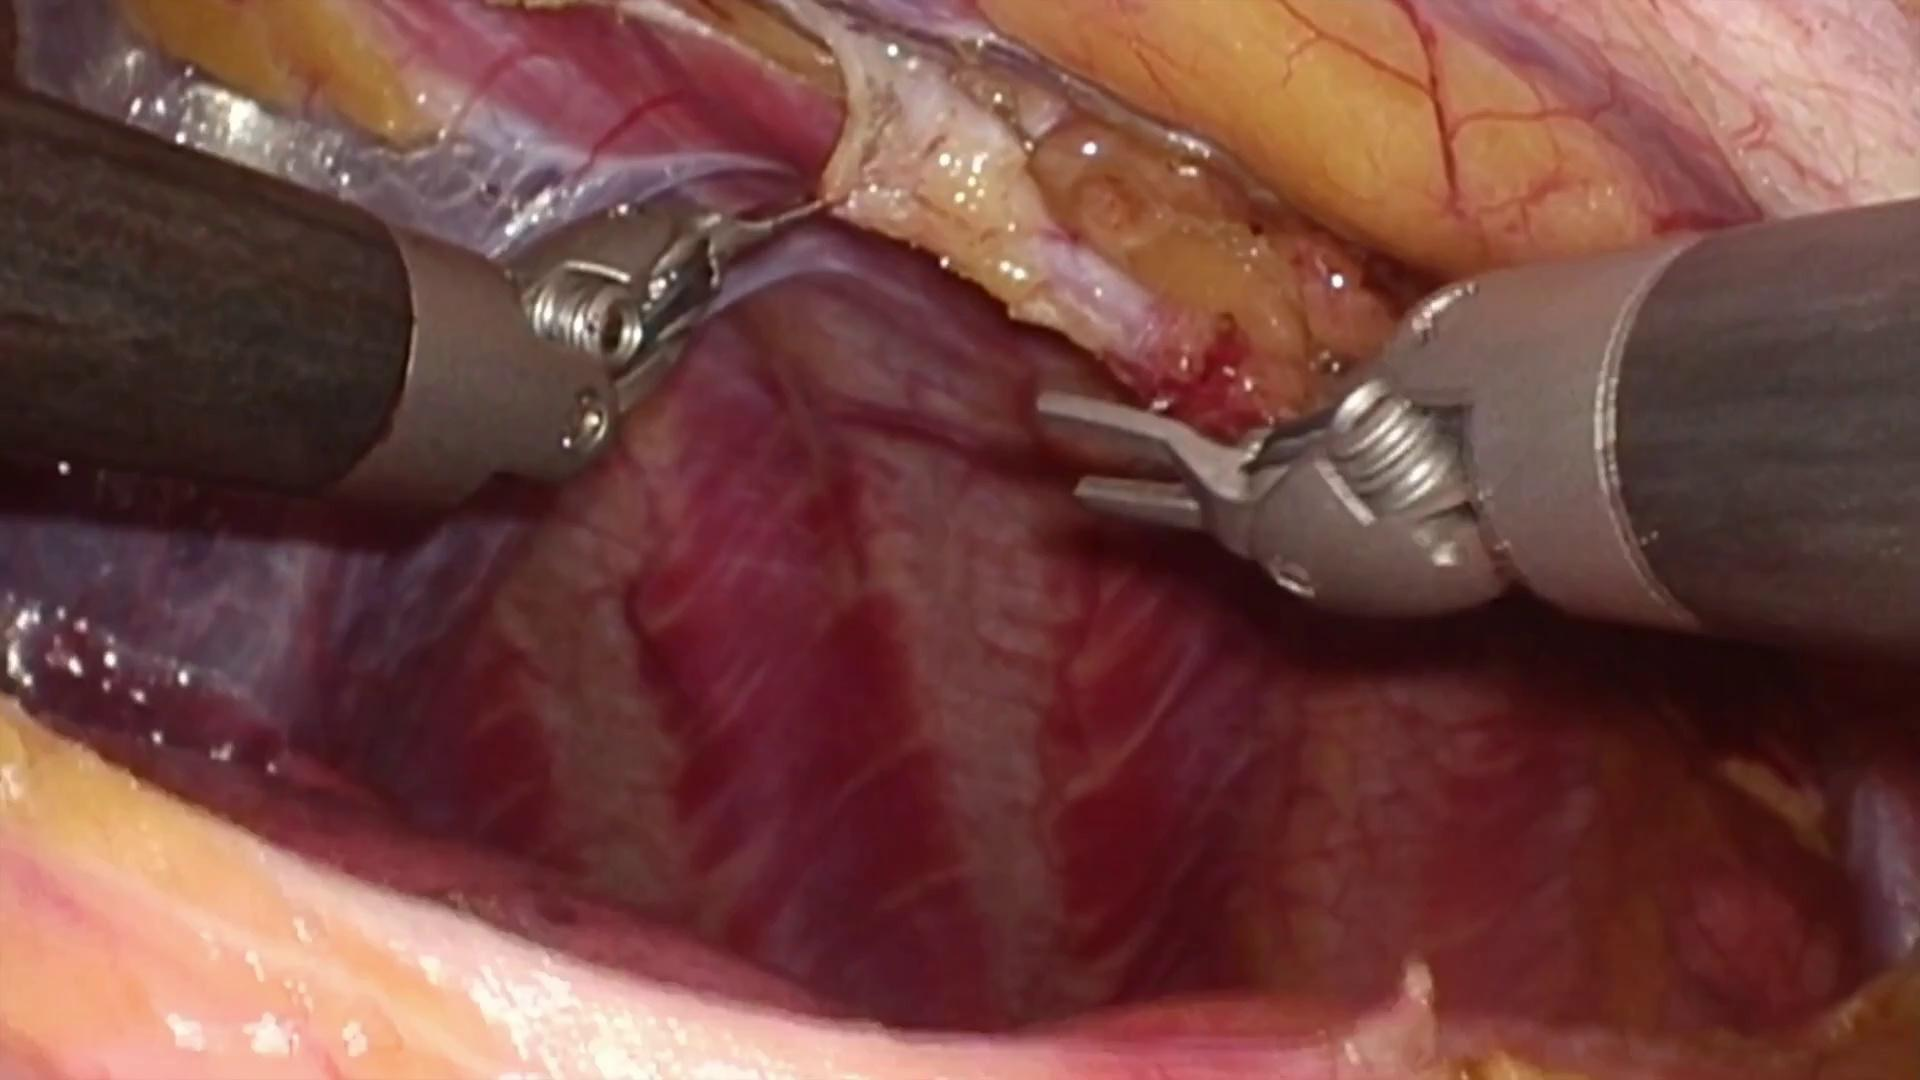Debakey: (690, 177, 835, 270)
clipper: (1040, 382, 1532, 644)
